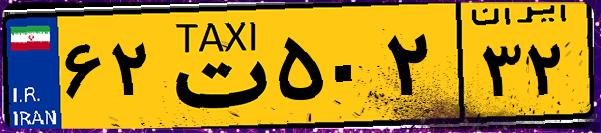0: (330, 28, 385, 110)
2: (385, 28, 445, 110), (525, 38, 570, 115), (110, 28, 158, 98)
3: (475, 38, 525, 113)
5: (270, 28, 330, 110)
6: (57, 26, 110, 100)
ت: (158, 12, 270, 120)
